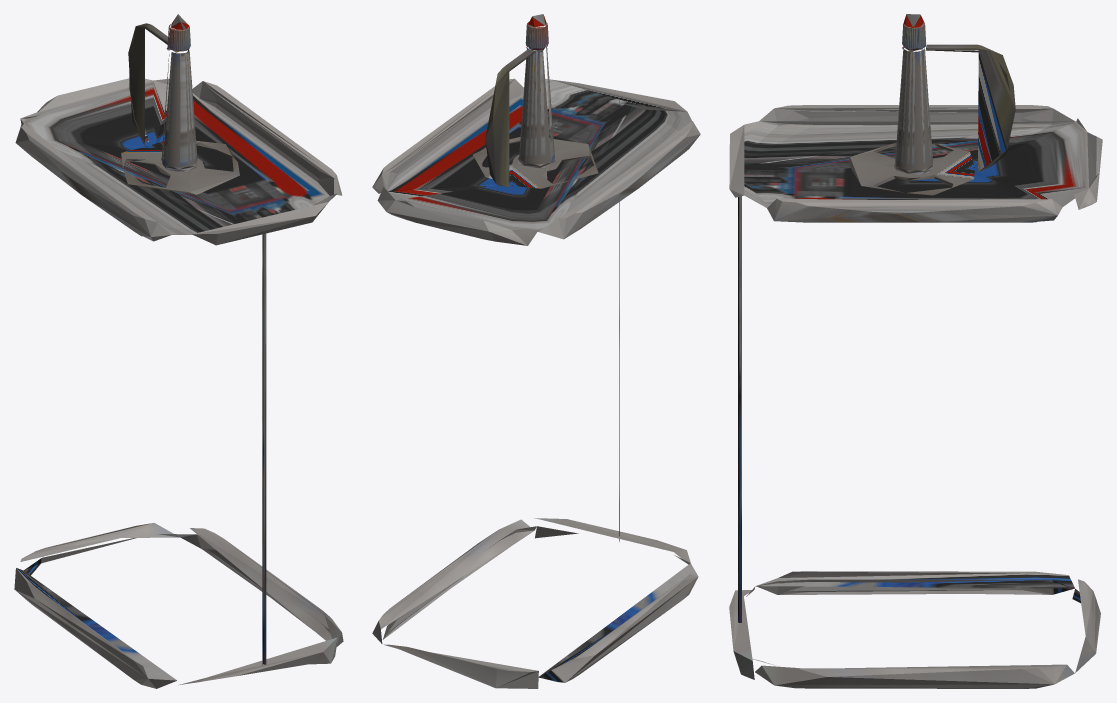
File: consumable_sealant_seamSealer_can_a01.glb
The picture shows the model from 3 angles, left to right: view 1: azimuth 30°, elevation 25°; view 2: azimuth 150°, elevation 25°; view 3: azimuth 270°, elevation 25°; orthographic projection. The views are drawn at different scales.
Parts seen in each view (by area): view 1: geometry_0; view 2: geometry_0; view 3: geometry_0.
Boxes of the visible parts, left/top/right/bottom form: geometry_0: left=14, top=14, right=343, bottom=688; geometry_0: left=372, top=14, right=700, bottom=688; geometry_0: left=729, top=14, right=1102, bottom=688.
Bounding box in the file's own units: 0.1487 × 0.42 × 0.227.
Materials: 1 (1 with a texture image).
